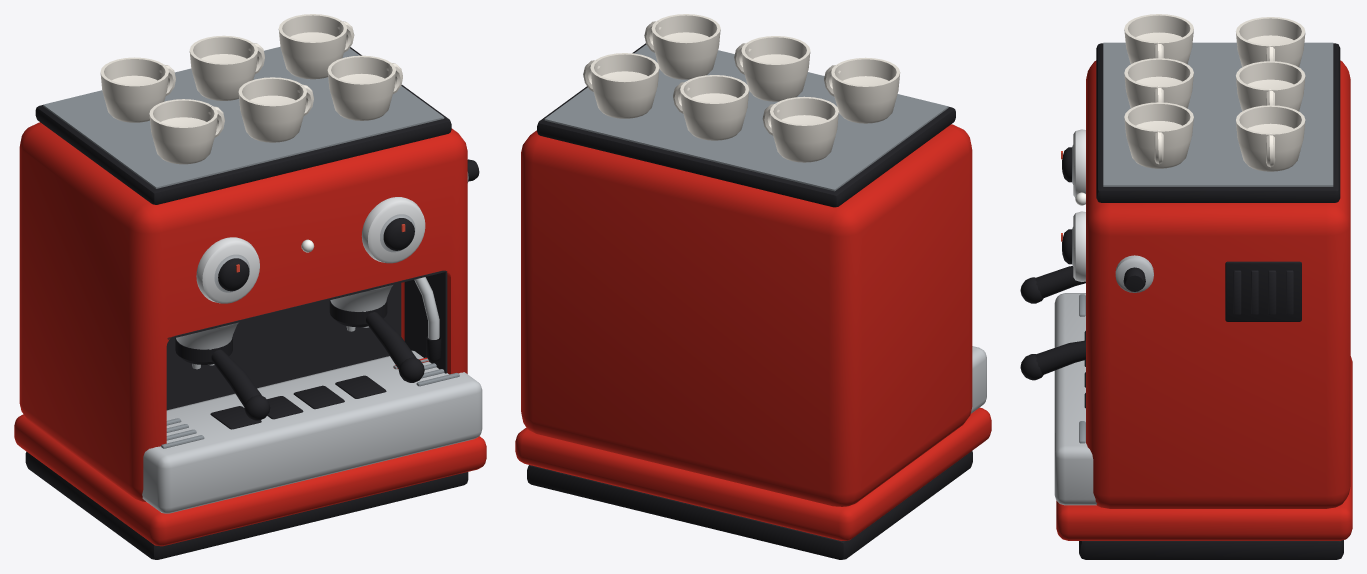
File: espresso_machine.gltf
3 renders of one model, left to right at view 1: azimuth 30°, elevation 25°; view 2: azimuth 150°, elevation 25°; view 3: azimuth 270°, elevation 25°, orthographic.
Visible parts, largest first — view 1: espresso_machine; view 2: espresso_machine; view 3: espresso_machine.
Boxes of the visible parts, x1,y1,x2,y2 form: espresso_machine: (14,14,486,559); espresso_machine: (515,14,991,559); espresso_machine: (1020,14,1352,559).
Bounding box in the file's own units: 1.21 × 1.3 × 0.953.
